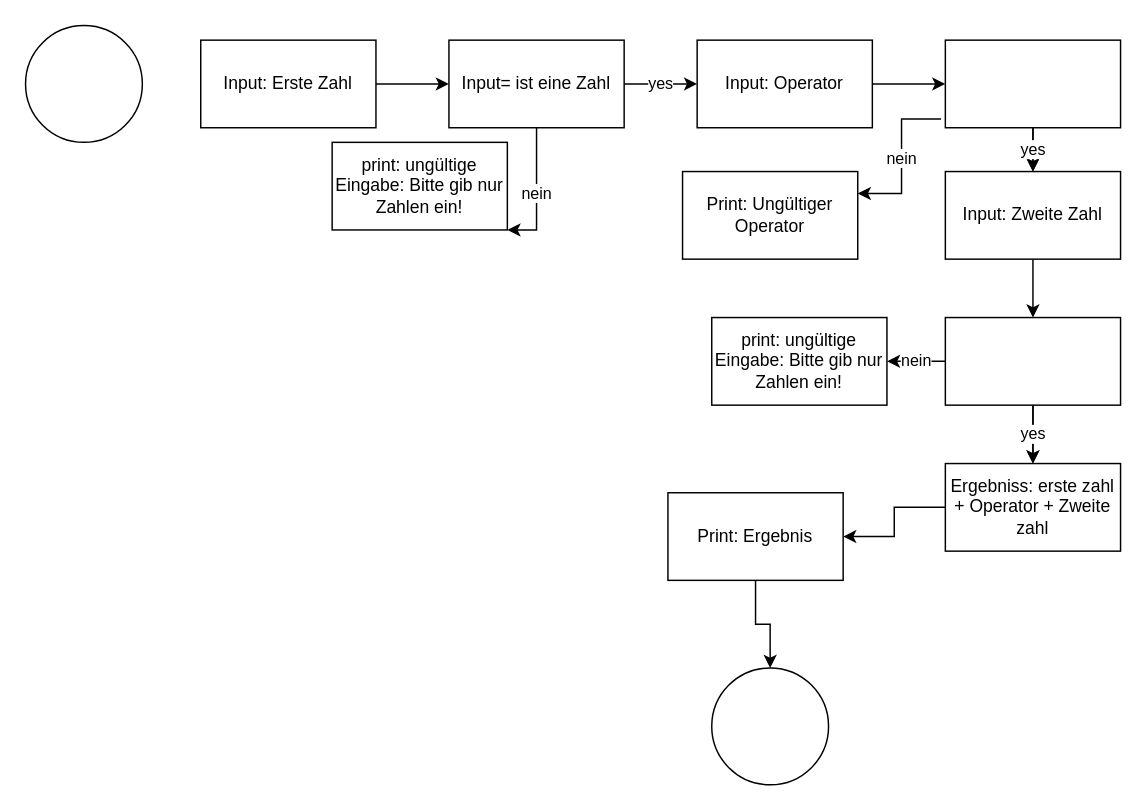
Some shapes in this 1146 by 810 pixel diagram are drawn without their labels. The shapes that lost their labels are listed below. From the top down, each one's centre as x and y in pixels, then its label:
At point (83, 83): "Start".
At point (1032, 83): "Input= Gültiger Operator?".
At point (1032, 360): "Input = ist eine Zahl?".
At point (769, 725): "End".
